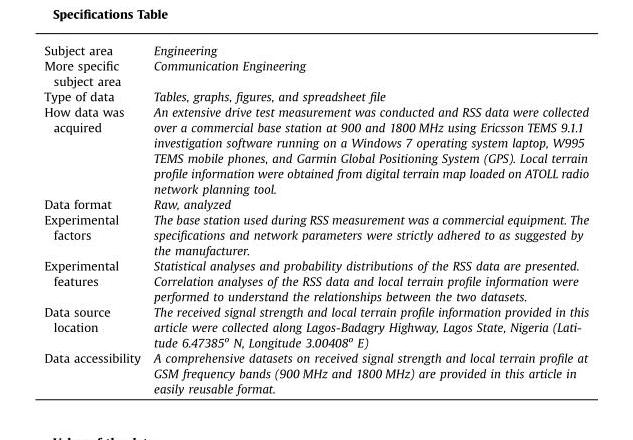table: (43, 42, 588, 395)
table column: (146, 42, 588, 395), (43, 42, 146, 395)
table row: (43, 103, 588, 195), (43, 211, 588, 257), (43, 257, 588, 303), (43, 303, 588, 349), (43, 349, 588, 395), (43, 57, 588, 88), (43, 195, 588, 211), (43, 42, 588, 57), (43, 88, 588, 103)
